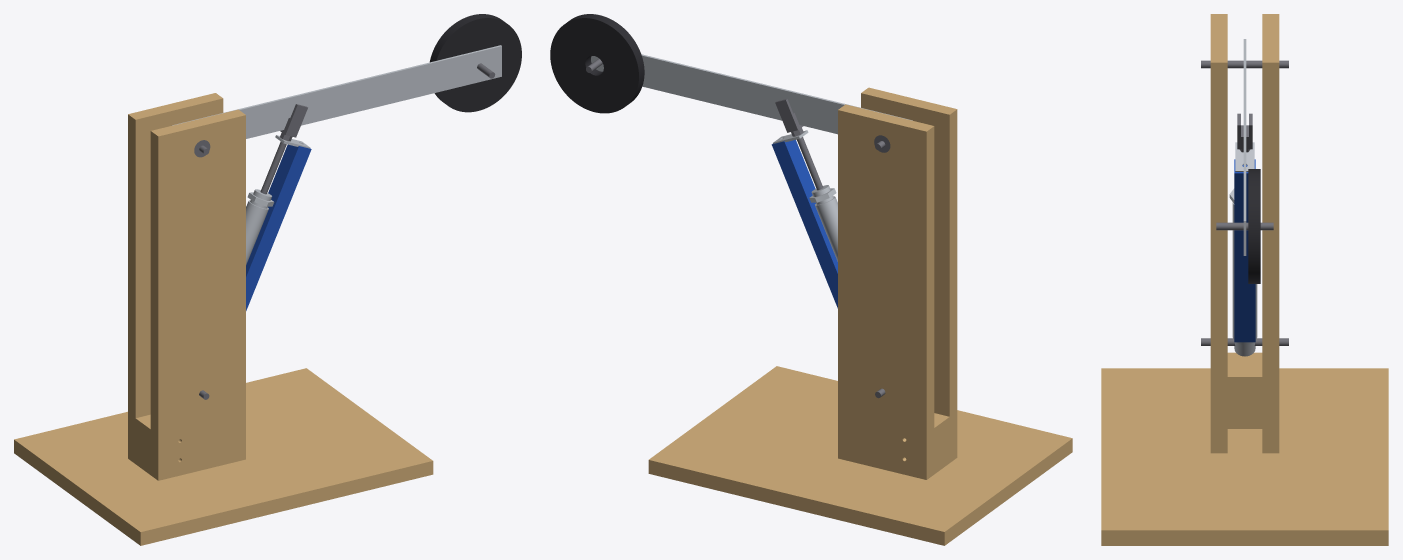
File: test1_assembly.glb
3 renders of one model, left to right at view 1: azimuth 30°, elevation 25°; view 2: azimuth 150°, elevation 25°; view 3: azimuth 270°, elevation 25°, orthographic. The views are drawn at different scales.
Visible parts, largest first — view 1: base_plate, cheek_right, cheek_left, arm, load_plate_1, potentiometer, cylinder, rod_clevis, spacer_block; view 2: base_plate, cheek_left, cheek_right, load_plate_1, arm, potentiometer, cylinder, rod_clevis, spacer_block; view 3: base_plate, cheek_left, cheek_right, potentiometer, spacer_block, load_plate_1, cylinder, arm, bolt_hinge, rod_clevis, pot_bracket, bolt_load.
Part boxes in pixels (<box>): base_plate: <box>14,368,433,545</box>; cheek_right: <box>150,109,245,480</box>; cheek_left: <box>128,93,223,463</box>; arm: <box>172,45,501,138</box>; load_plate_1: <box>429,14,521,112</box>; potentiometer: <box>246,144,311,310</box>; cylinder: <box>246,189,274,264</box>; rod_clevis: <box>260,104,307,194</box>; spacer_block: <box>135,414,150,474</box>; base_plate: <box>648,366,1072,545</box>; cheek_left: <box>838,104,934,479</box>; cheek_right: <box>861,87,957,462</box>; load_plate_1: <box>550,14,644,113</box>; arm: <box>591,54,912,134</box>; potentiometer: <box>771,140,837,308</box>; cylinder: <box>809,185,837,261</box>; rod_clevis: <box>775,98,823,190</box>; spacer_block: <box>934,413,949,474</box>; base_plate: <box>1101,368,1388,545</box>; cheek_left: <box>1262,14,1279,453</box>; cheek_right: <box>1210,14,1227,453</box>; potentiometer: <box>1234,159,1255,342</box>; spacer_block: <box>1227,352,1262,428</box>; load_plate_1: <box>1248,169,1260,283</box>; cylinder: <box>1229,188,1257,356</box>; arm: <box>1243,39,1246,255</box>; bolt_hinge: <box>1201,60,1288,68</box>; rod_clevis: <box>1237,113,1252,152</box>; pot_bracket: <box>1235,142,1254,171</box>; bolt_load: <box>1216,222,1273,230</box>.
Size of the model in its own units: 610 by 498 by 300.
